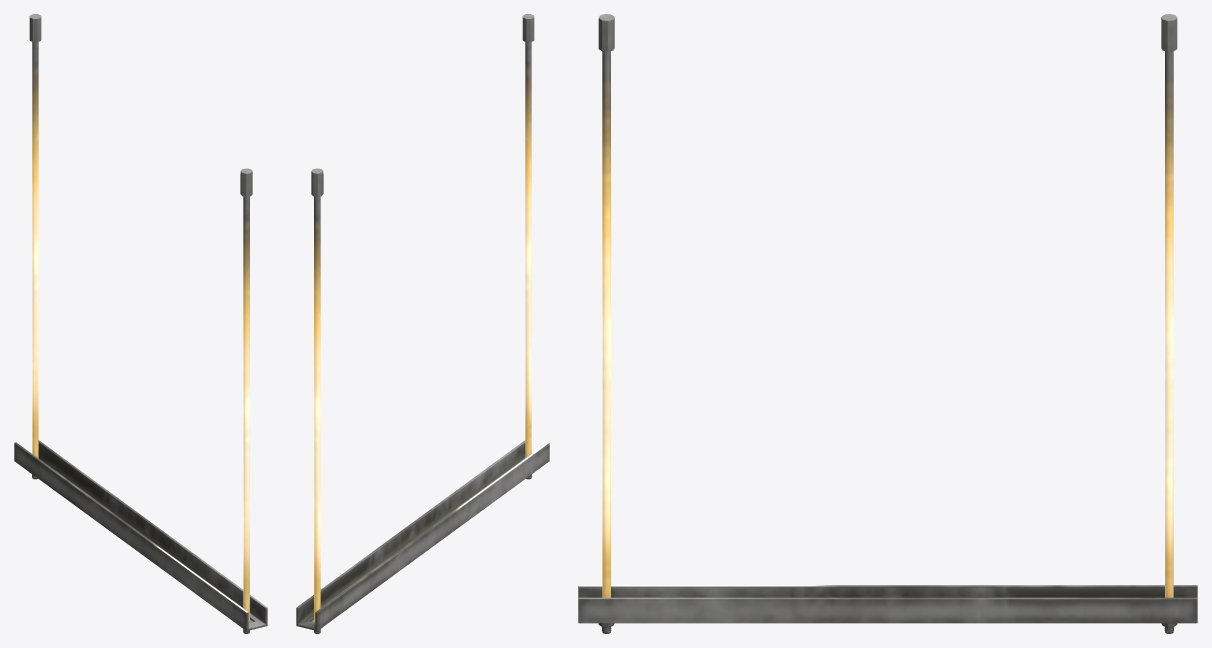
The model's file is SM_Ventilation_Set_06a.fbx.
3 views of the same model, side by side, from view 1: azimuth 30°, elevation 25°; view 2: azimuth 150°, elevation 25°; view 3: azimuth 270°, elevation 25° (orthographic). The views are drawn at different scales.
Parts seen in each view (by area): view 1: SM_Ventilation_Set_06a_LOD0; view 2: SM_Ventilation_Set_06a_LOD0; view 3: SM_Ventilation_Set_06a_LOD0.
Boxes of the visible parts, <box> form: SM_Ventilation_Set_06a_LOD0: <box>14,14,267,633</box>; SM_Ventilation_Set_06a_LOD0: <box>296,14,549,633</box>; SM_Ventilation_Set_06a_LOD0: <box>578,14,1197,633</box>.
Size of the model in its own units: 4.68 by 88 by 96.45.
